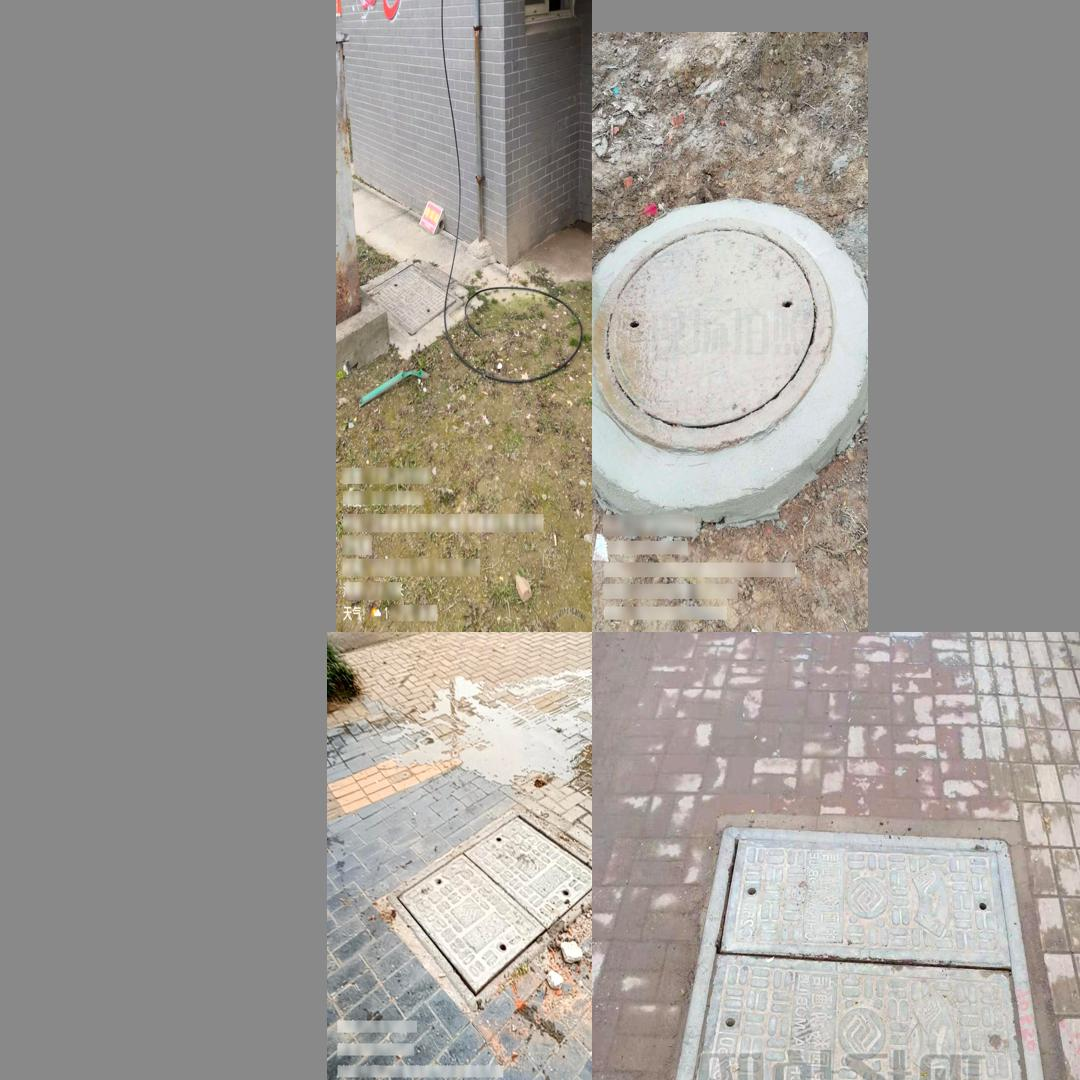good: (625, 823, 1080, 1080), (592, 217, 831, 452), (386, 803, 592, 1011), (364, 243, 457, 335)
